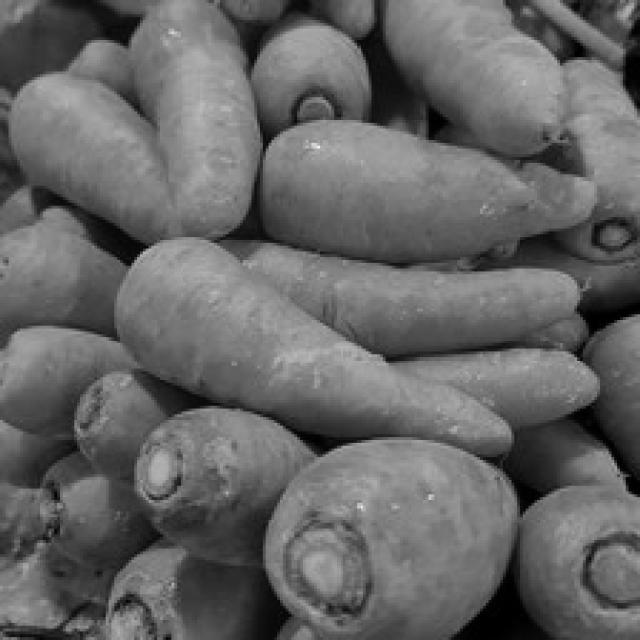Fresh_Carrot: (7, 21, 640, 622)
